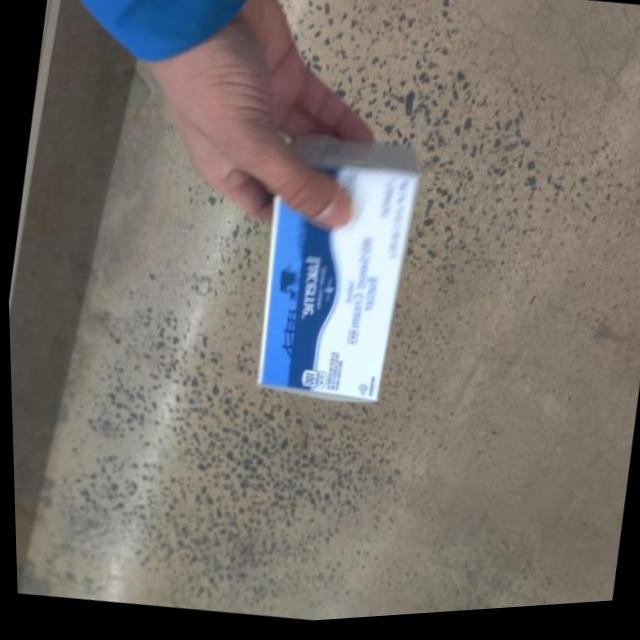Butter: (240, 133, 426, 420)
